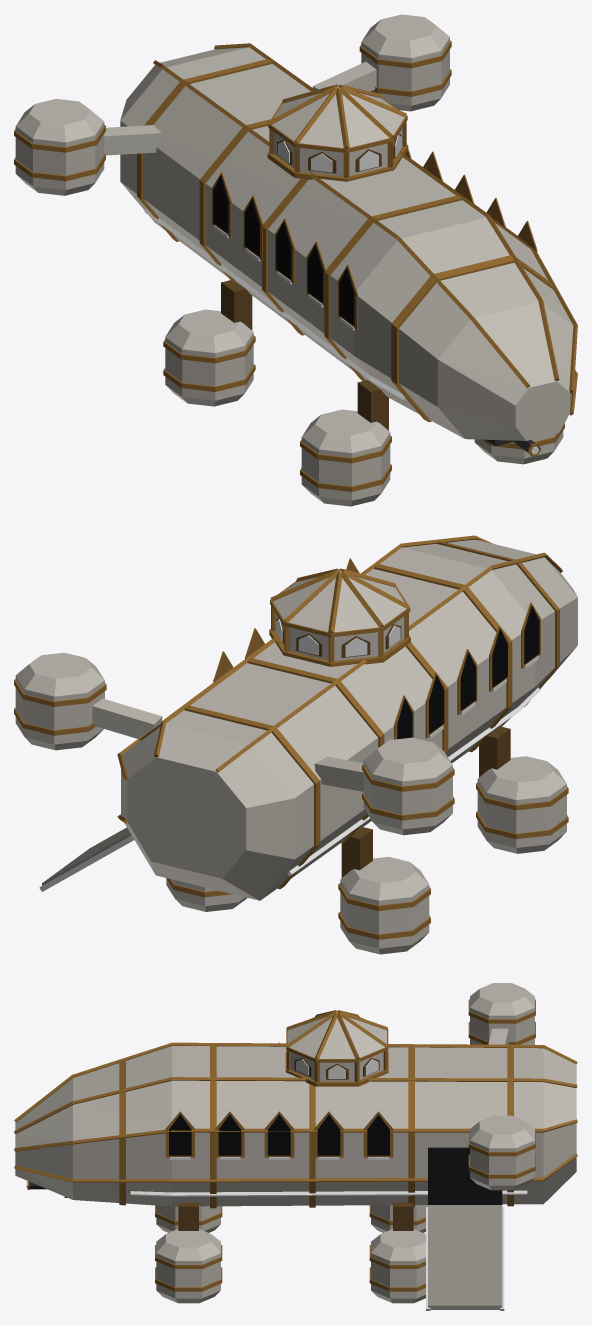
The model's file is airtransport.glb.
The picture shows the model from 3 angles, top to bottom: view 1: azimuth 30°, elevation 25°; view 2: azimuth 150°, elevation 25°; view 3: azimuth 270°, elevation 25°; orthographic projection. The views are drawn at different scales.
Parts seen in each view (by area): view 1: body; view 2: body; view 3: body.
Part boxes in pixels (bbox=[...]): body: bbox=[14, 14, 577, 506]; body: bbox=[14, 535, 577, 954]; body: bbox=[14, 983, 577, 1310].
Size of the model in its own units: 9.23 by 6.66 by 13.66.
